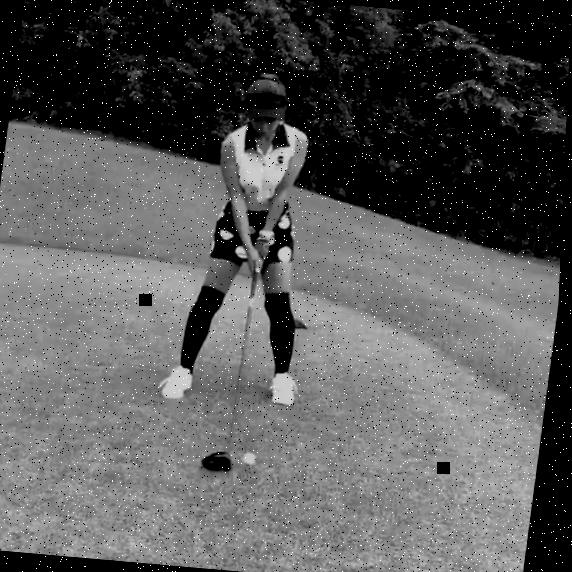ClubHead: (203, 450, 239, 473)
GolfBall: (246, 452, 261, 465)
